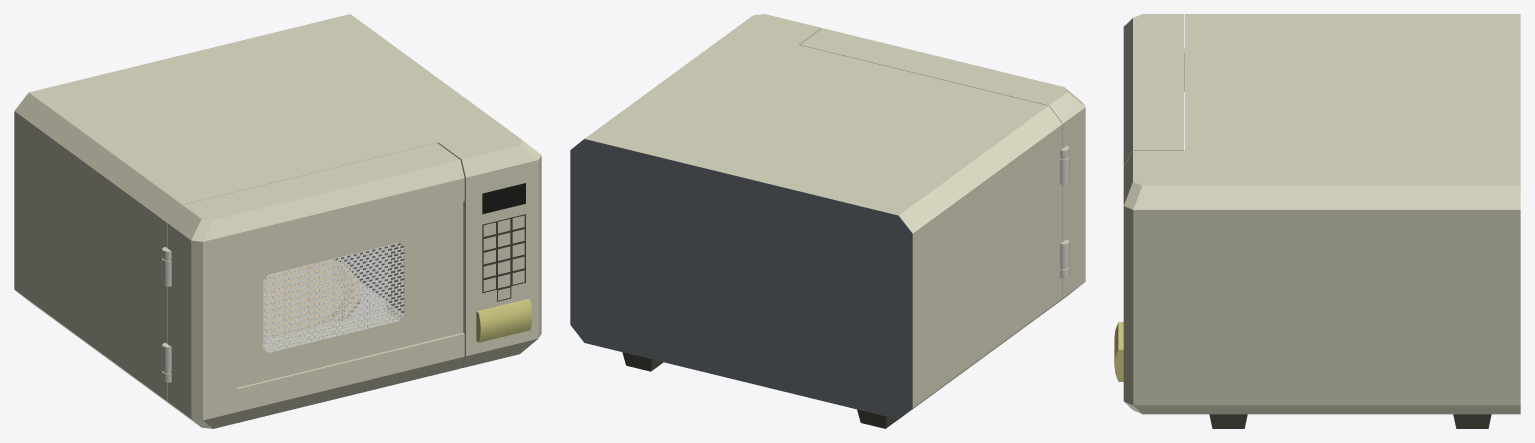
Rendered from microwave_mdl.fbx.
The picture shows the model from 3 angles, left to right: view 1: azimuth 30°, elevation 25°; view 2: azimuth 150°, elevation 25°; view 3: azimuth 270°, elevation 25°; orthographic projection. The views are drawn at different scales.
Visible parts, largest first — view 1: microwaveBody_mdl, microwaveDoor_mdl; view 2: microwaveBody_mdl, microwaveDoor_mdl; view 3: microwaveBody_mdl, microwaveDoor_mdl.
Part boxes in pixels (x1,y1,x2,y2): microwaveBody_mdl: (14, 14, 541, 412); microwaveDoor_mdl: (168, 143, 464, 428); microwaveBody_mdl: (570, 14, 1069, 428); microwaveDoor_mdl: (800, 28, 1085, 307); microwaveBody_mdl: (1114, 14, 1520, 428); microwaveDoor_mdl: (1123, 14, 1183, 166).
Size of the model in its own units: 1.18 by 0.7495 by 1.07.
